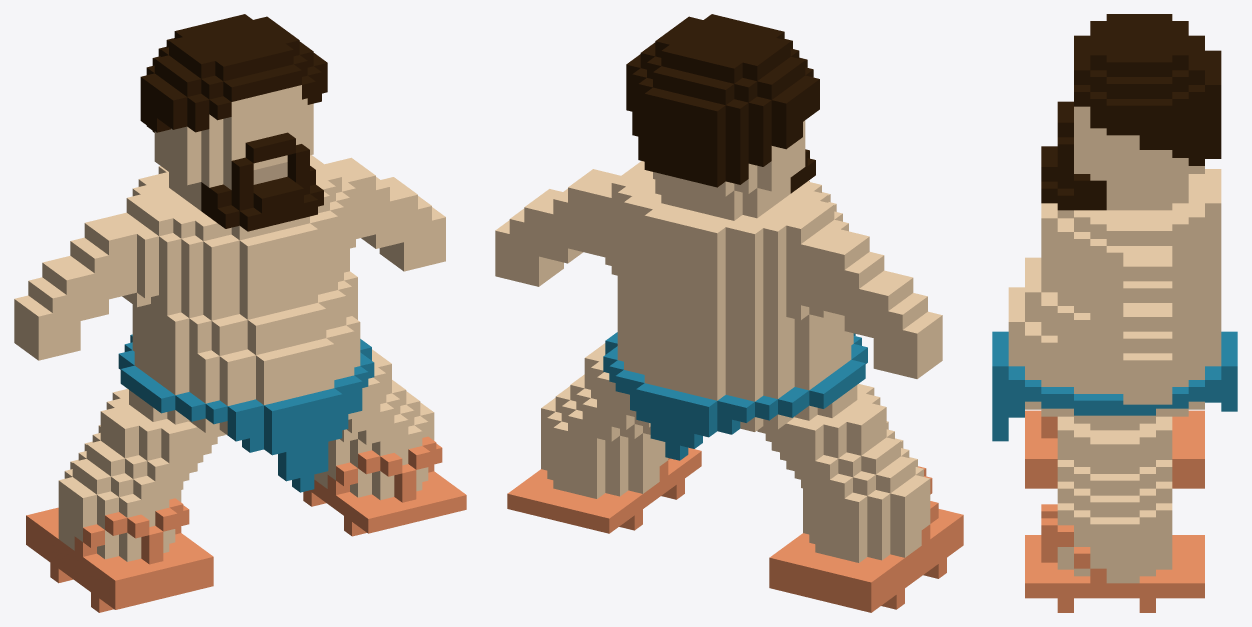
The model's file is Tristan.obj.
3 views of the same model, side by side, from view 1: azimuth 30°, elevation 25°; view 2: azimuth 150°, elevation 25°; view 3: azimuth 270°, elevation 25° (orthographic). The views are drawn at different scales.
Size of the model in its own units: 29 by 34 by 15.
1 material, 1 textured.
